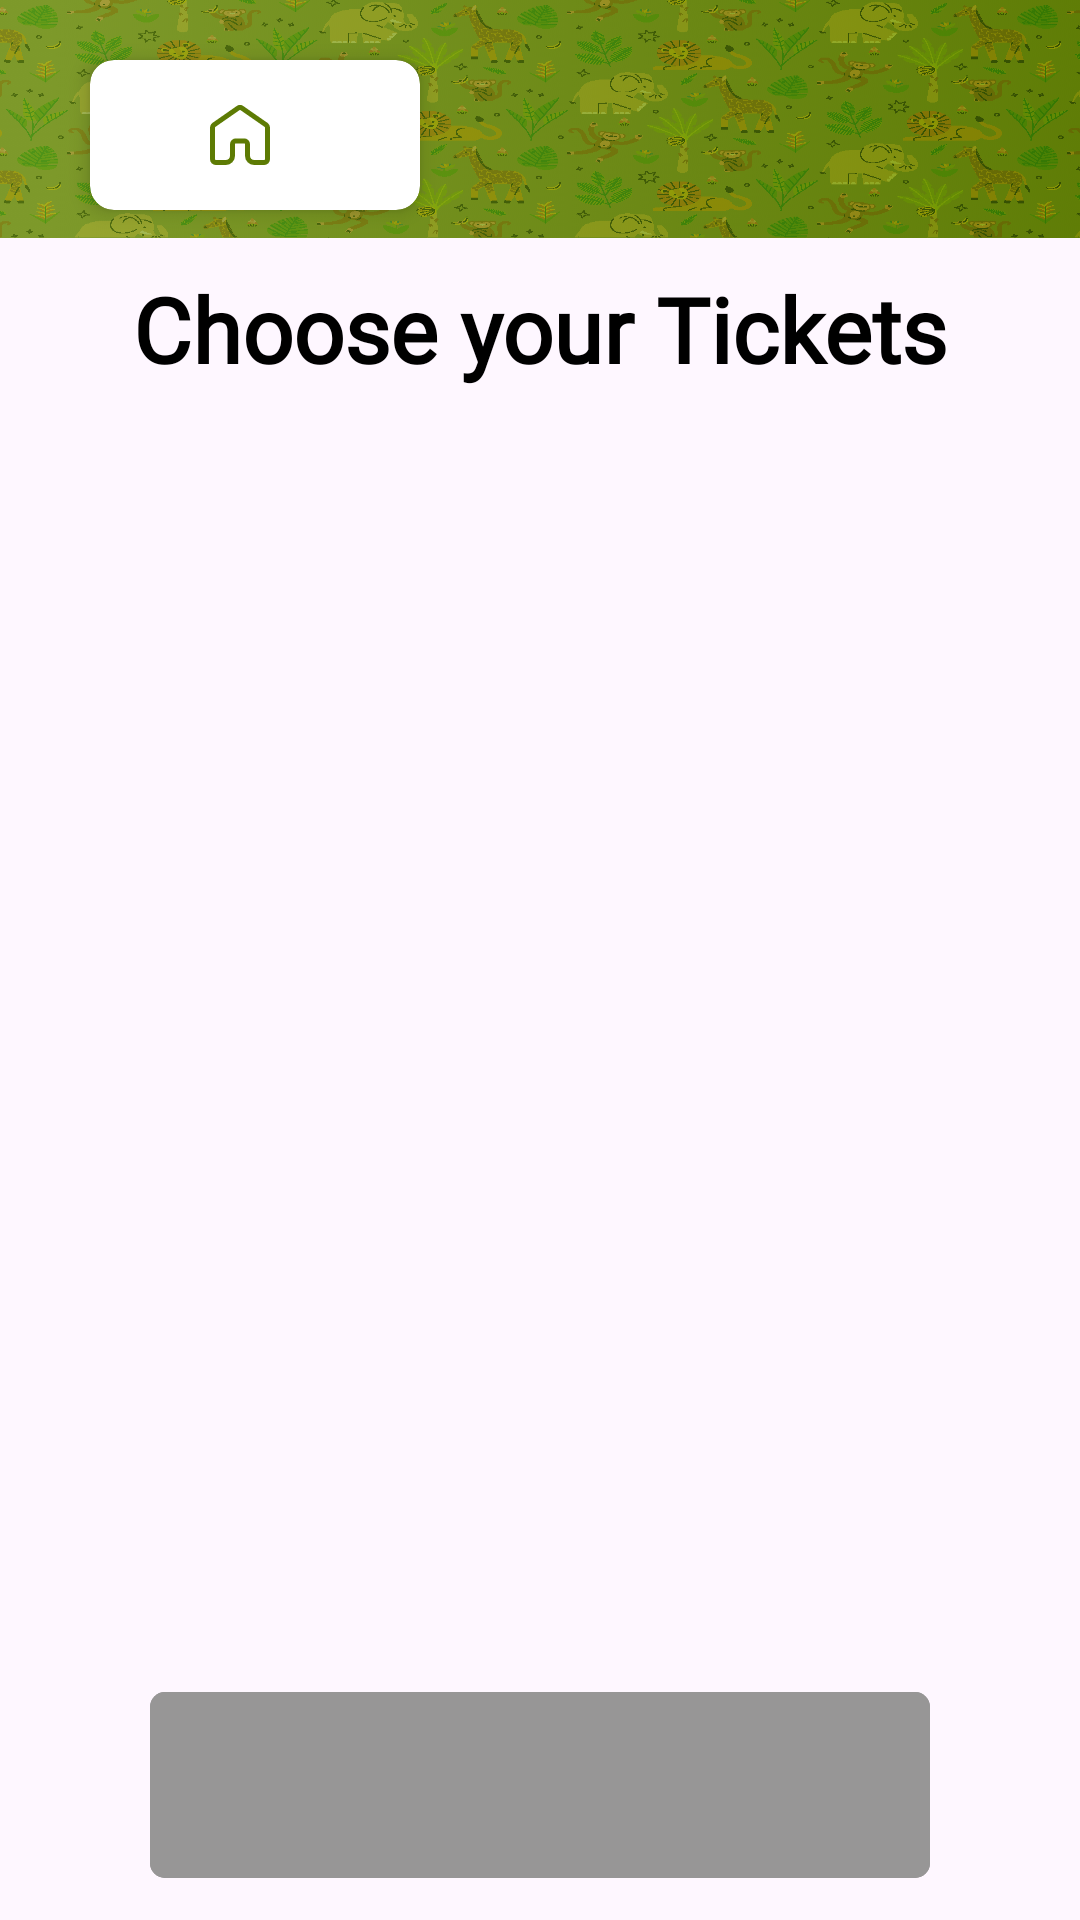

Icon bounding boxes for this 1080×1920 phone screenshot, format (x1, y1, x2, y2):
home: (210, 105, 270, 165)
